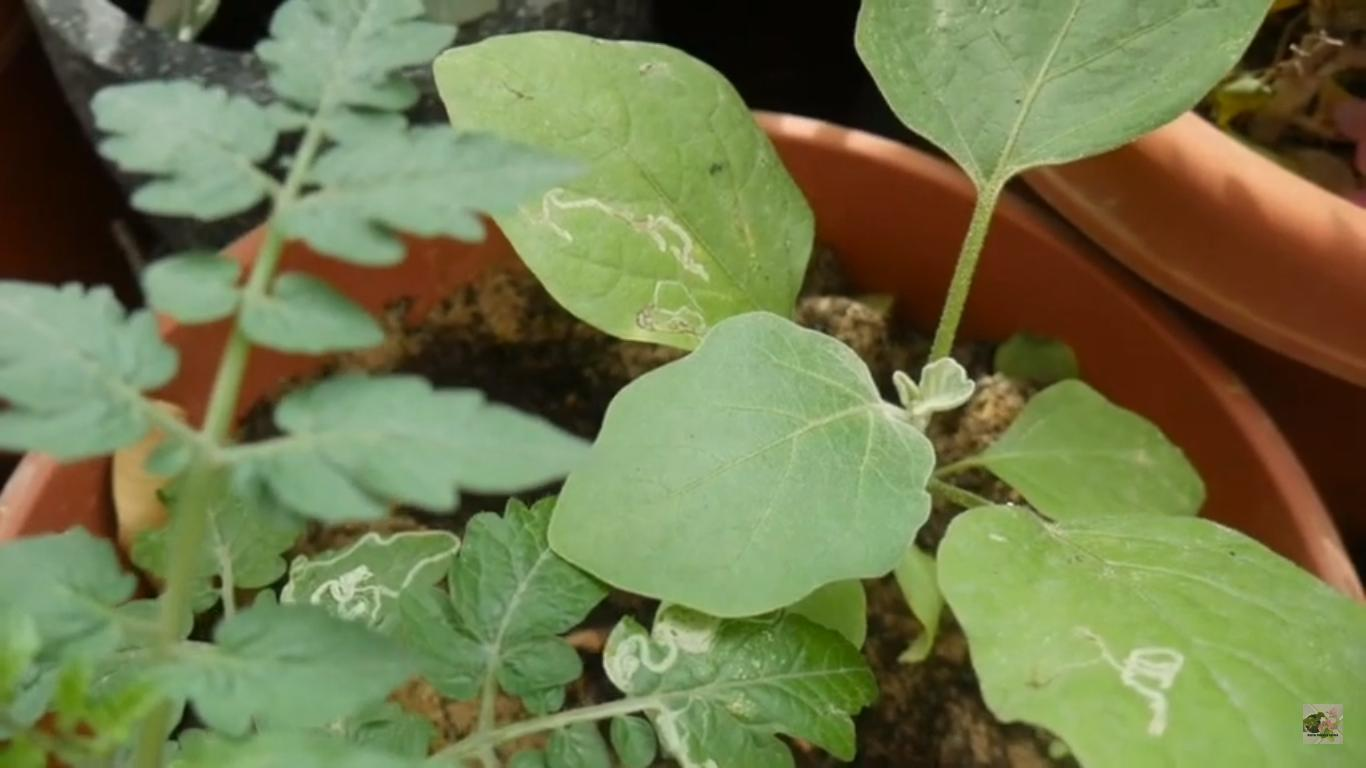Leaf_Miner: (430, 28, 816, 342), (938, 500, 1366, 768), (598, 598, 878, 768), (272, 528, 463, 633)
